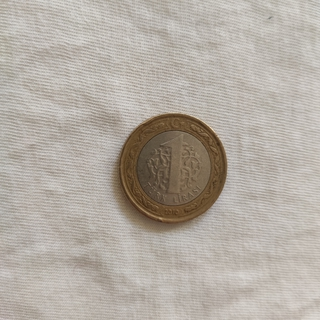1TL: (116, 111, 228, 226)
